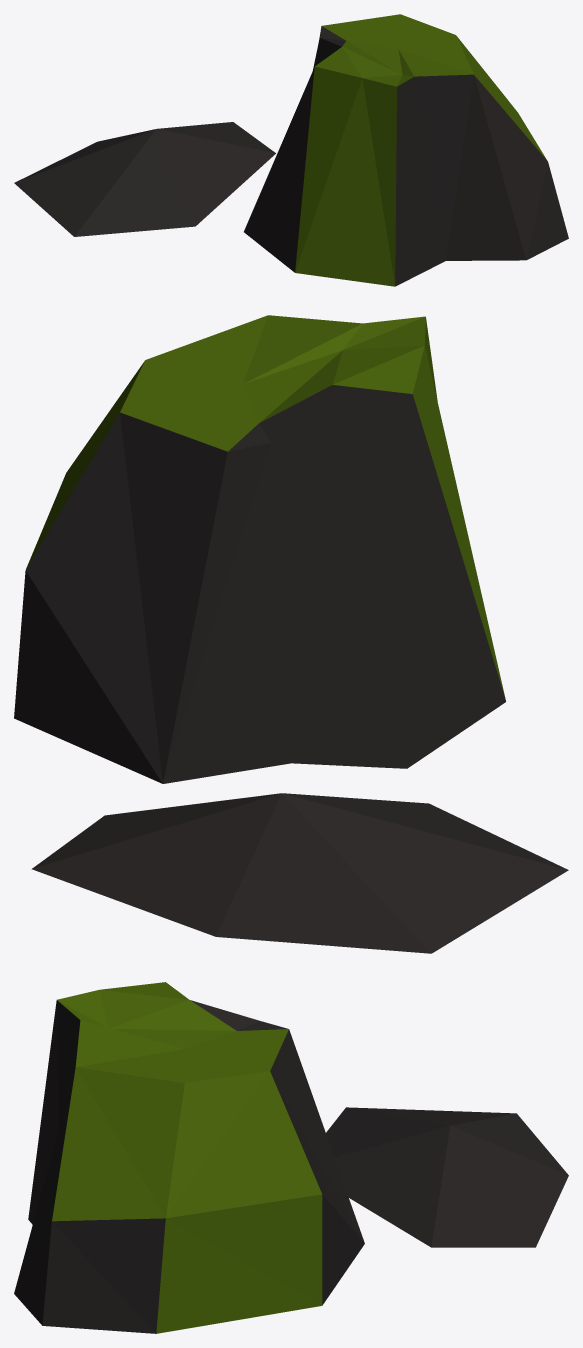
The model's file is obj_mossy_rock_2_0.obj.
3 views of the same model, one above another, from view 1: azimuth 30°, elevation 25°; view 2: azimuth 150°, elevation 25°; view 3: azimuth 270°, elevation 25° (orthographic). The views are drawn at different scales.
Bounding box in the file's own units: 0.8828 × 0.4141 × 0.9141.
